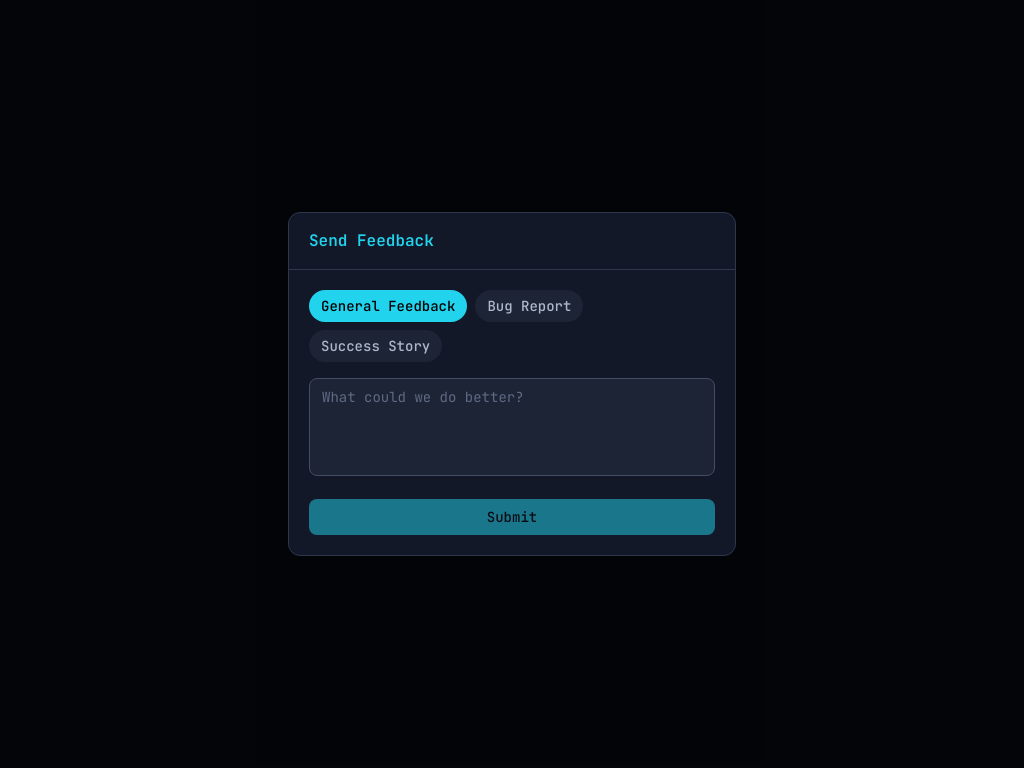
Scenario: FeedbackModal › handles submission failure gracefully
The width and height of the screenshot is (1024, 768).
Type "test" into the text box. click: point(512, 427)
box: left=309, top=378, right=715, bottom=476
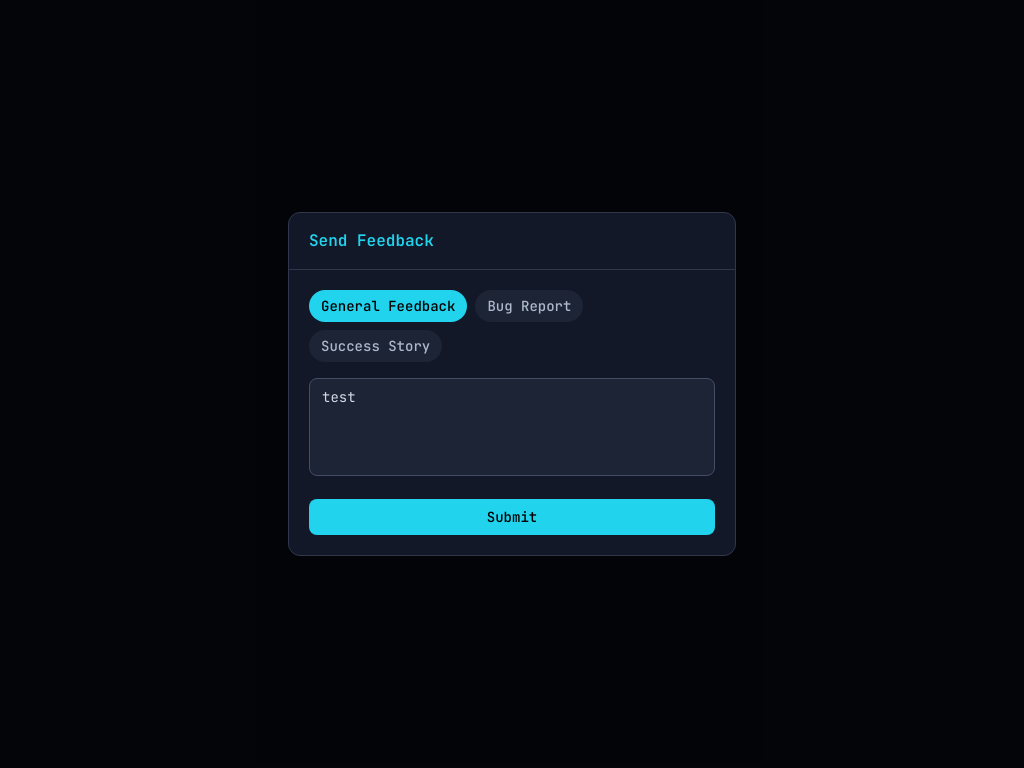
Click the button "Submit". click: point(512, 517)
box: left=309, top=499, right=715, bottom=535
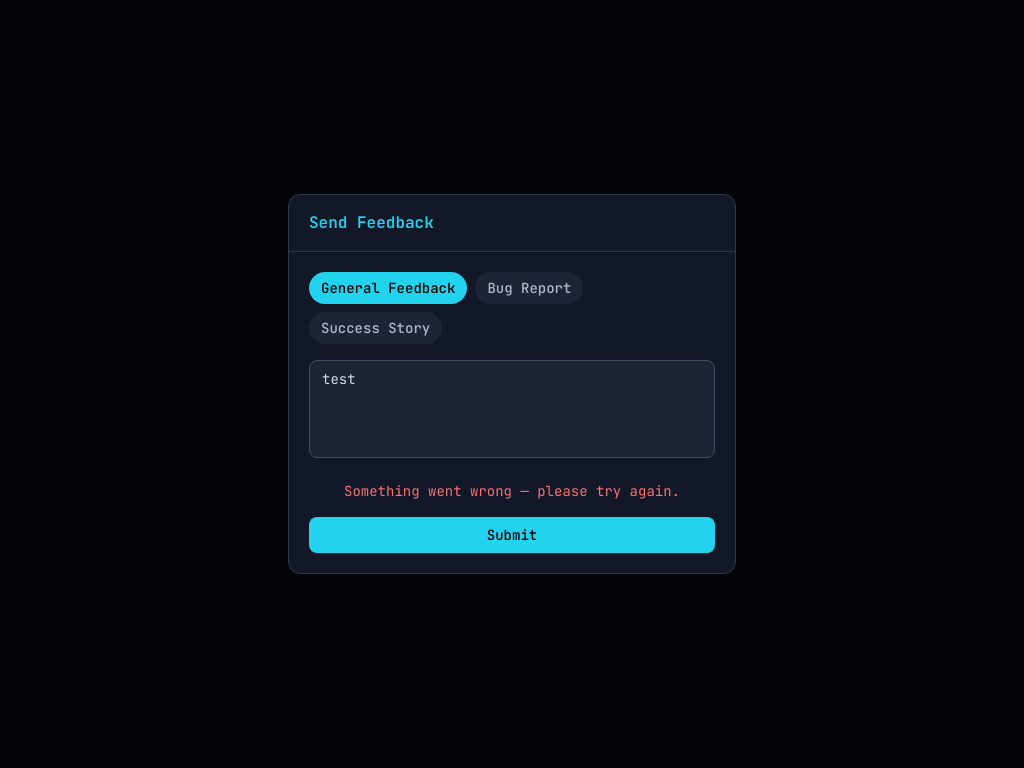
Check: the button "Submit" is enabled, box left=309, top=517, right=715, bottom=553
Check: the text "Something went wrong — please try again." is shown, box left=344, top=482, right=680, bottom=500
